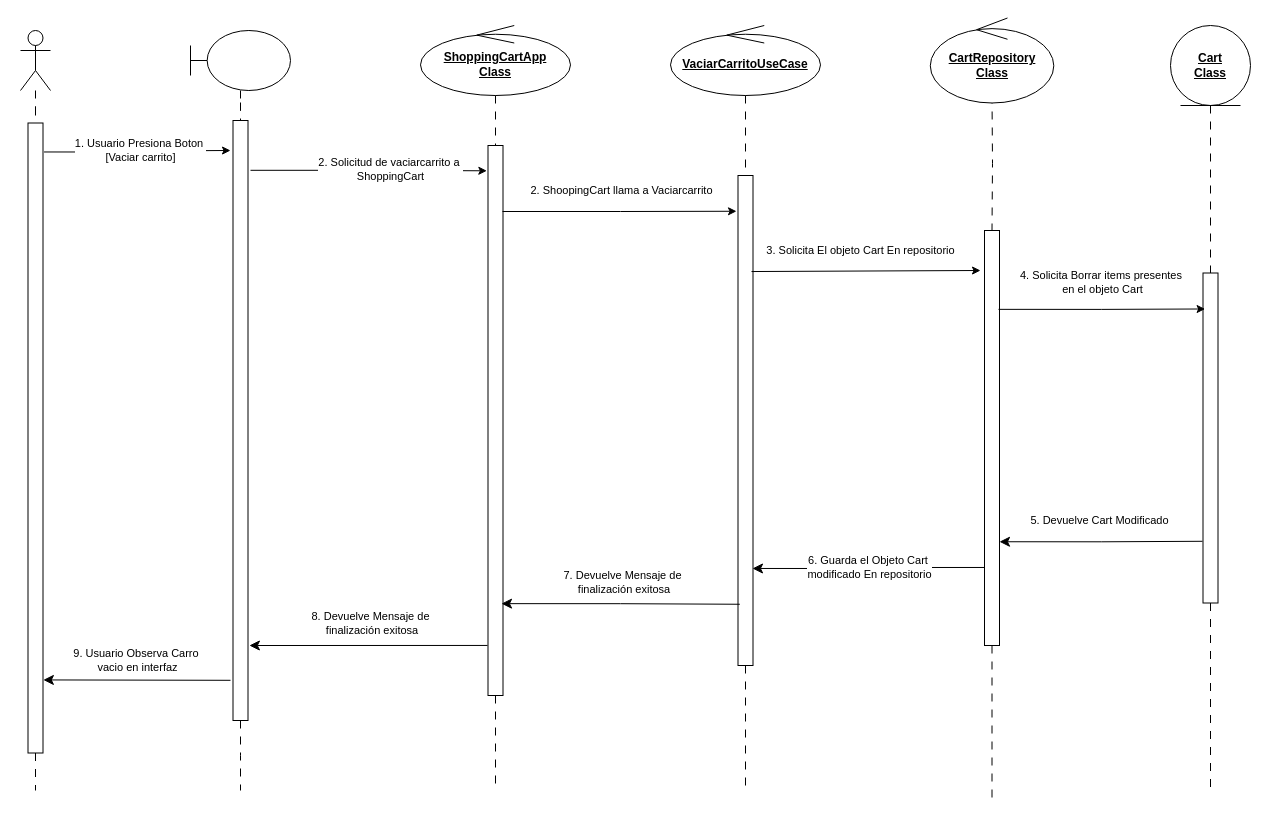
Image size: 1268x819. Some labels were removed from this diagram. Here are the shapes that lost their labels. From the top down, the centre of each, then its label:
At [35,60]: "Cliente".
At [240,60]: "MainView Class".
